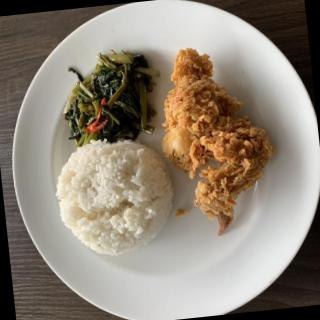Nasi: (54, 134, 181, 261)
